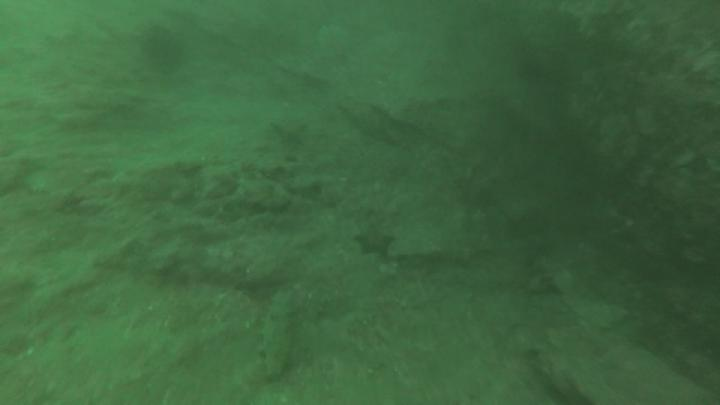echinus: (145, 25, 170, 54)
holothurian: (260, 293, 293, 379)
starfish: (359, 224, 394, 257), (273, 118, 307, 143)
